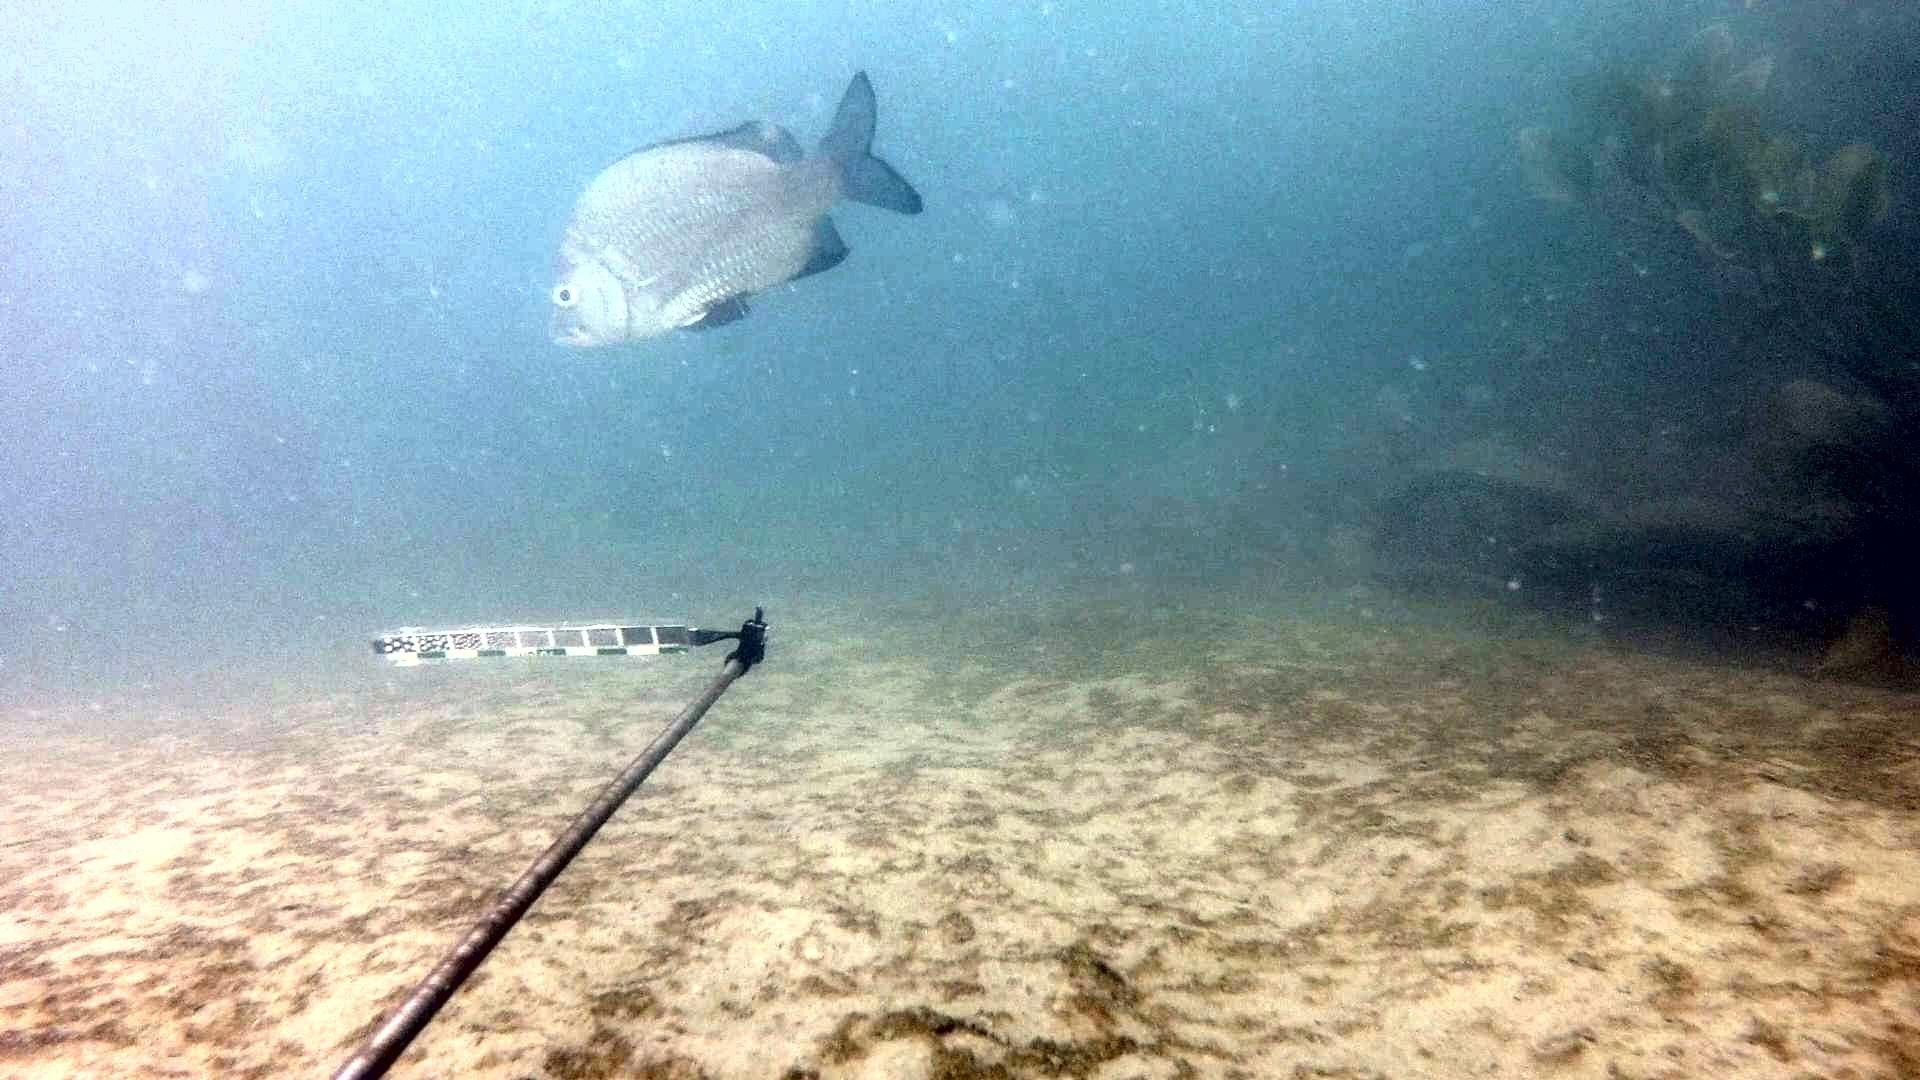acanthopagrus palmaris: (543, 58, 938, 359)
